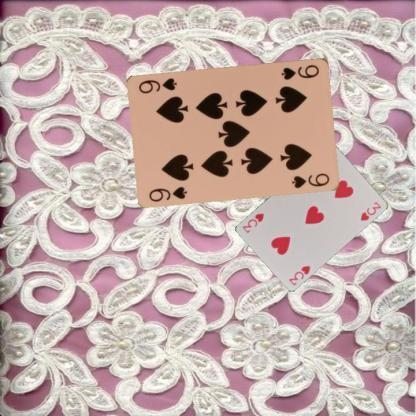3h: (287, 262, 312, 286)
9s: (146, 183, 188, 203), (278, 62, 321, 81)
